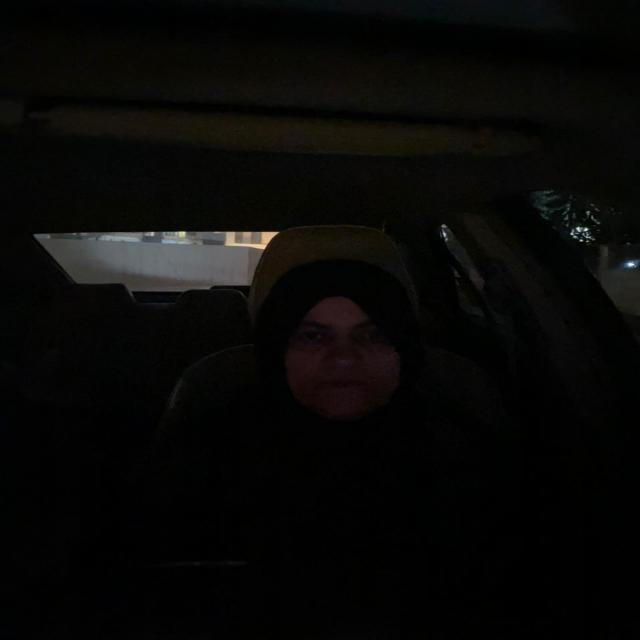person: (258, 251, 422, 428)
